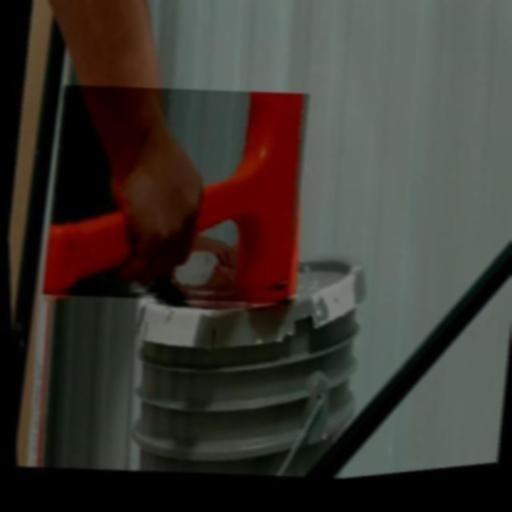mallet: (40, 98, 303, 300)
